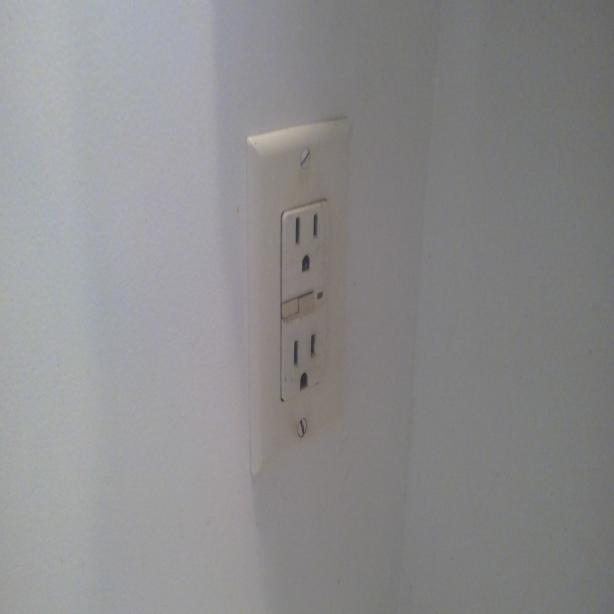typeb: (281, 206, 326, 280), (284, 324, 332, 390)
